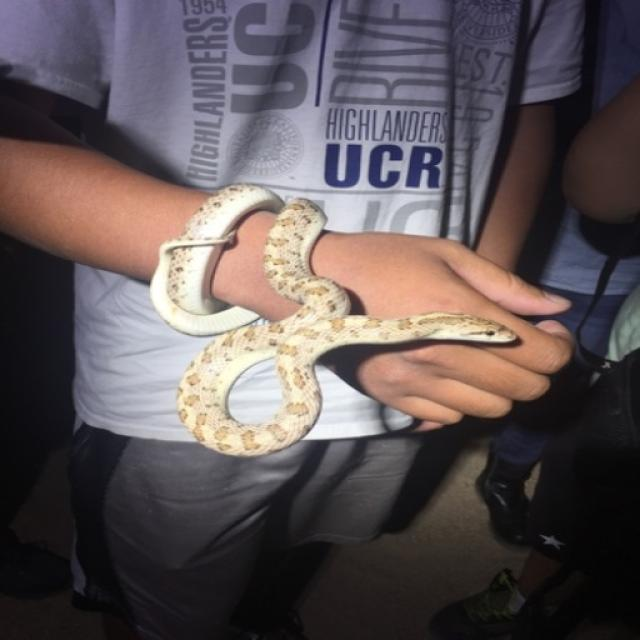snake: (144, 167, 518, 464)
